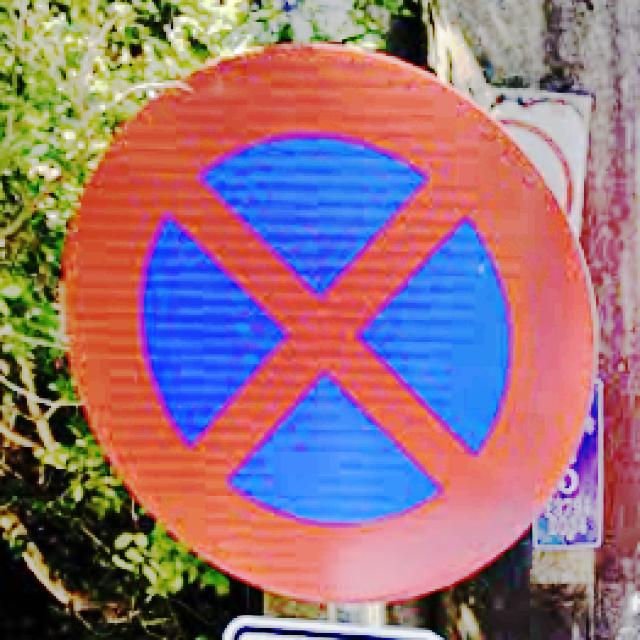nopark: (61, 44, 596, 611)
